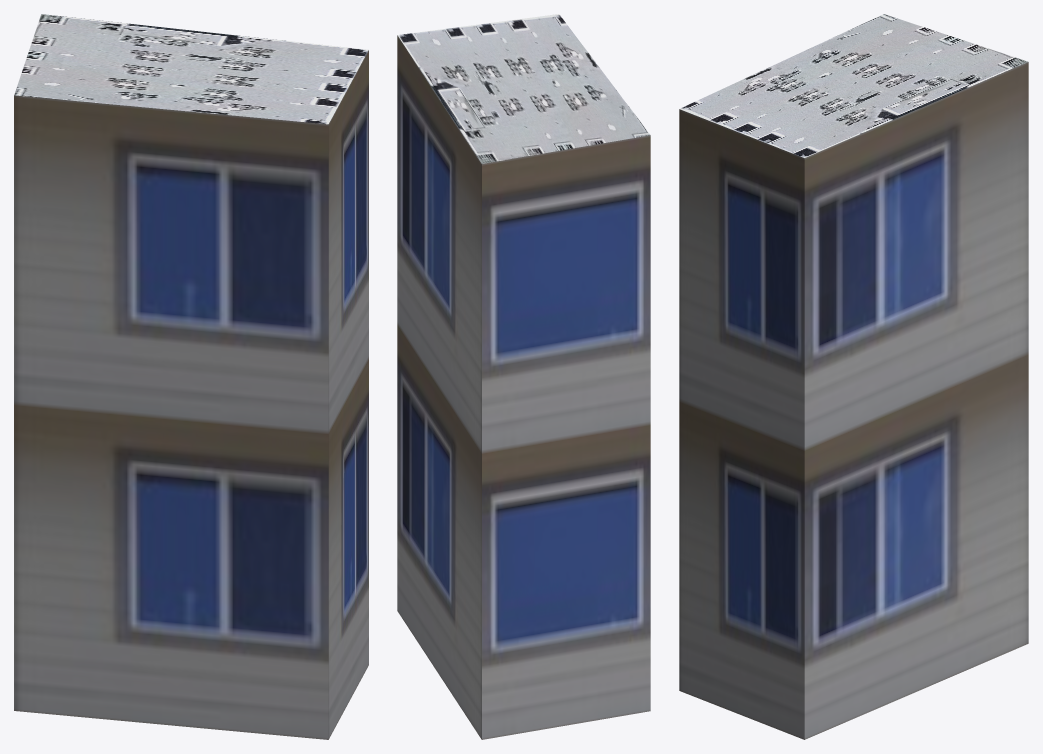
The model's file is ResTex__348.fbx.
The picture shows the model from 3 angles, left to right: view 1: azimuth 30°, elevation 25°; view 2: azimuth 150°, elevation 25°; view 3: azimuth 270°, elevation 25°; orthographic projection. The views are drawn at different scales.
Parts seen in each view (by area): view 1: CityEngineMaterial_23_m, CityEngineMaterial_8_m; view 2: CityEngineMaterial_23_m, CityEngineMaterial_8_m; view 3: CityEngineMaterial_23_m, CityEngineMaterial_8_m.
Boxes of the visible parts, x1,y1,x2,y2 form: CityEngineMaterial_23_m: (14,50,368,739); CityEngineMaterial_8_m: (14,14,368,124); CityEngineMaterial_23_m: (397,35,650,739); CityEngineMaterial_8_m: (397,14,650,163); CityEngineMaterial_23_m: (679,62,1028,739); CityEngineMaterial_8_m: (680,14,1028,157).
Bounding box in the file's own units: 3.19 × 6 × 3.27.
2 materials, 2 textured.
